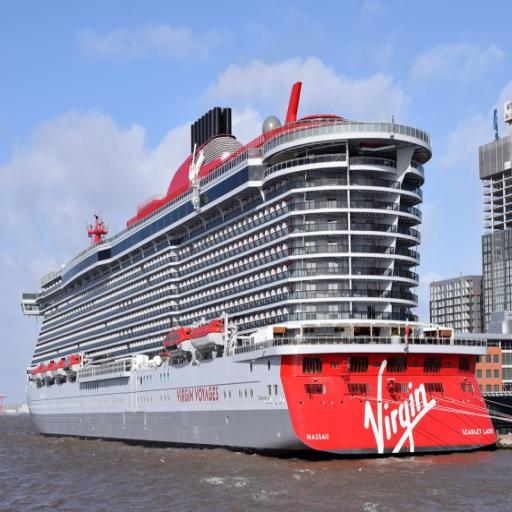cruises: (19, 74, 501, 467)
